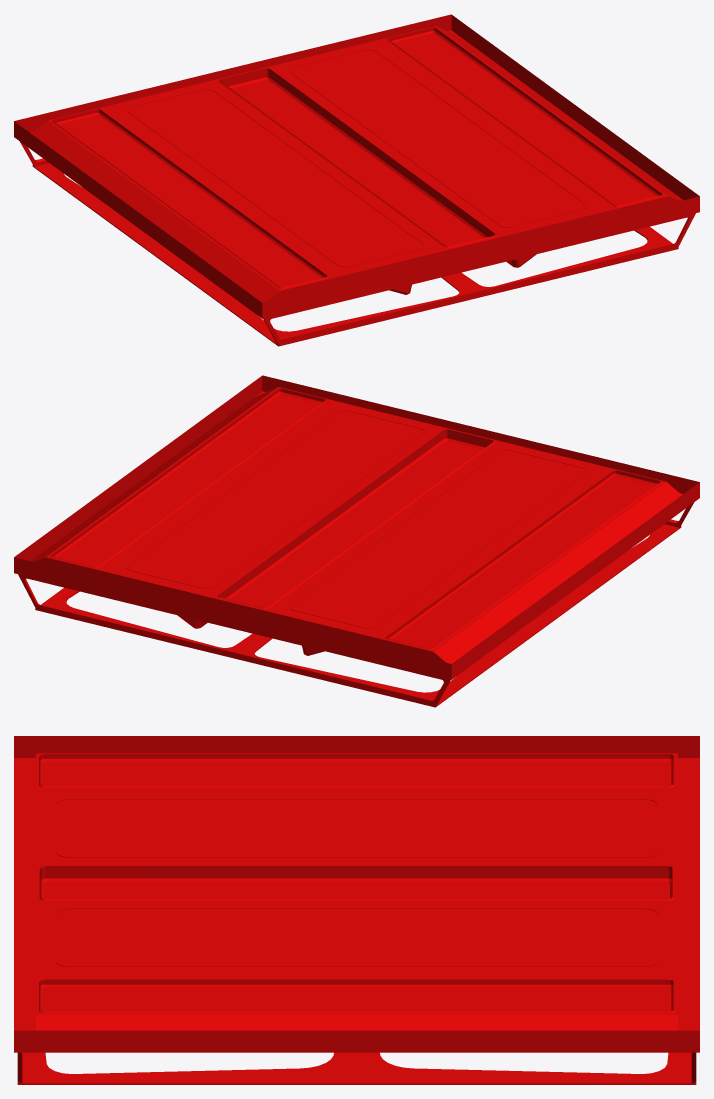
Rendered from Ceiling_3.fbx.
3 views of the same model, one above another, from view 1: azimuth 30°, elevation 25°; view 2: azimuth 150°, elevation 25°; view 3: azimuth 270°, elevation 25° (orthographic). The views are drawn at different scales.
Parts seen in each view (by area): view 1: polySurface3; view 2: polySurface3; view 3: polySurface3.
Part boxes in pixels (box(x1,y1,x2,y2)): polySurface3: box(14, 14, 699, 346); polySurface3: box(14, 375, 699, 707); polySurface3: box(14, 736, 699, 1084).
Bounding box in the file's own units: 377 × 41.19 × 371.
